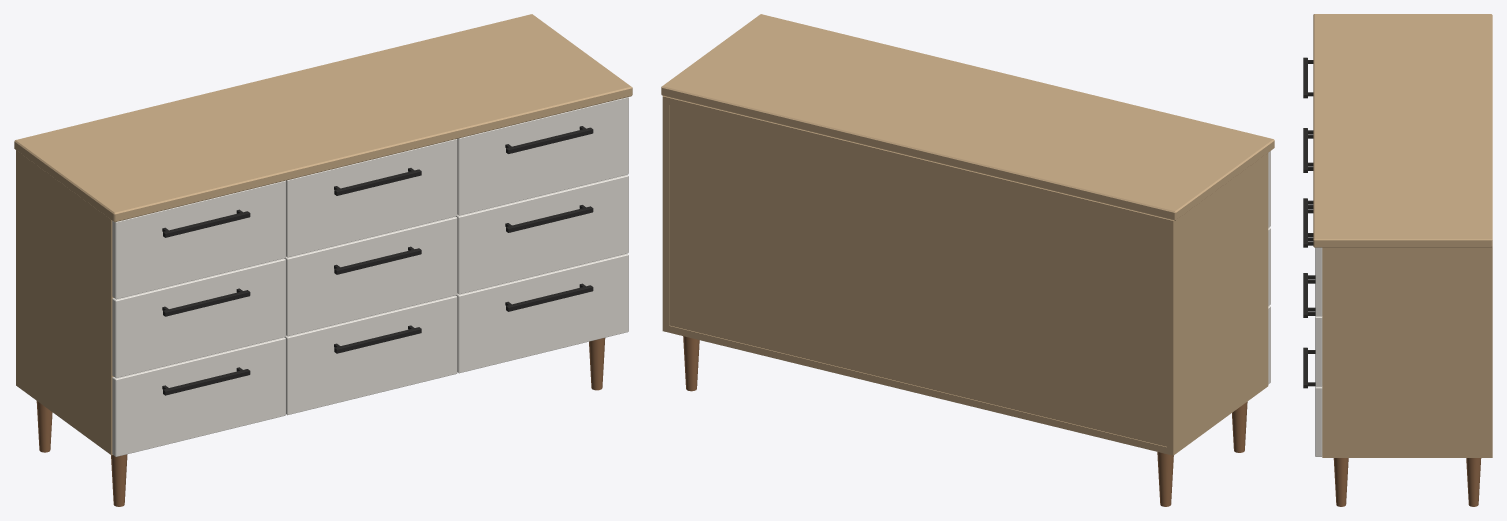
File: 19_komoda_140_3x3.glb
3 renders of one model, left to right at view 1: azimuth 30°, elevation 25°; view 2: azimuth 150°, elevation 25°; view 3: azimuth 270°, elevation 25°, orthographic. The views are drawn at different scales.
Visible parts, largest first — view 1: Wierzch, Korpus, Front_szuflada_3, Front_szuflada_2, Front_szuflada_6, Front_szuflada_5, Front_szuflada_8, Front_szuflada_9, Front_szuflada_1, Front_szuflada_4, Front_szuflada_7, Uchwyty (+1 smaller); view 2: Korpus, Wierzch, Nogi; view 3: Wierzch, Korpus, Uchwyty, Nogi, Front_szuflada_9, Front_szuflada_8, Front_szuflada_7.
Boxes of the visible parts, box(x1,y1,x2,y2) form: Wierzch: box(14, 14, 632, 222); Korpus: box(16, 150, 113, 455); Front_szuflada_3: box(112, 337, 285, 456); Front_szuflada_2: box(112, 258, 285, 377); Front_szuflada_6: box(284, 295, 457, 415); Front_szuflada_5: box(284, 216, 457, 336); Front_szuflada_8: box(456, 175, 628, 294); Front_szuflada_9: box(456, 253, 628, 373); Front_szuflada_1: box(112, 180, 285, 299); Front_szuflada_4: box(286, 139, 457, 257); Front_szuflada_7: box(457, 97, 628, 215); Uchwyty: box(162, 126, 593, 395); Korpus: box(662, 96, 1268, 455); Wierzch: box(661, 14, 1274, 220); Nogi: box(683, 336, 1247, 506); Wierzch: box(1313, 14, 1492, 247); Korpus: box(1322, 247, 1492, 457); Uchwyty: box(1303, 57, 1315, 388); Nogi: box(1333, 458, 1481, 506); Front_szuflada_9: box(1315, 386, 1322, 456); Front_szuflada_8: box(1315, 316, 1322, 386); Front_szuflada_7: box(1315, 247, 1322, 316).
Size of the model in its own units: 1.41 by 0.8 by 0.5.
